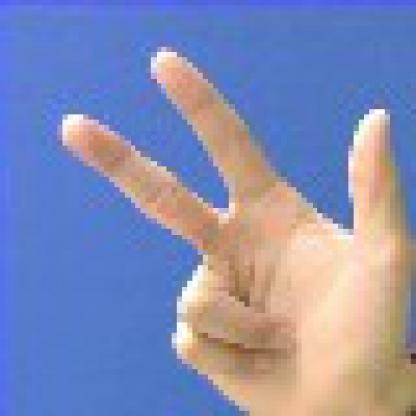eight: (47, 36, 411, 411)
